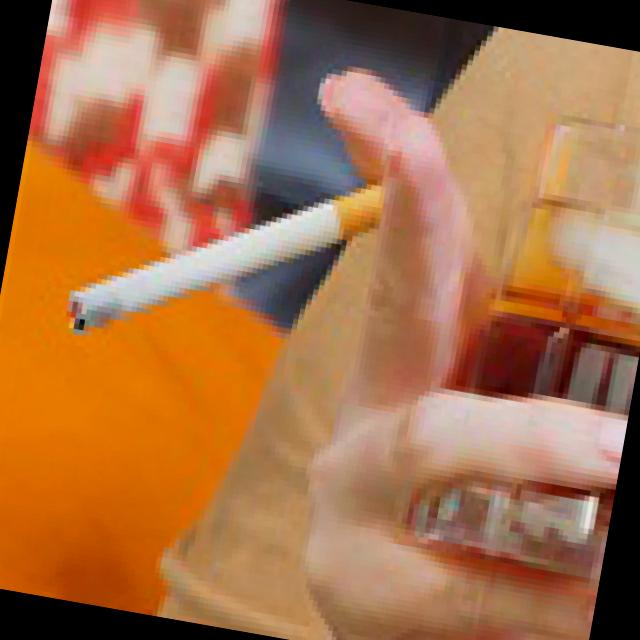cigarette: (59, 130, 384, 392)
